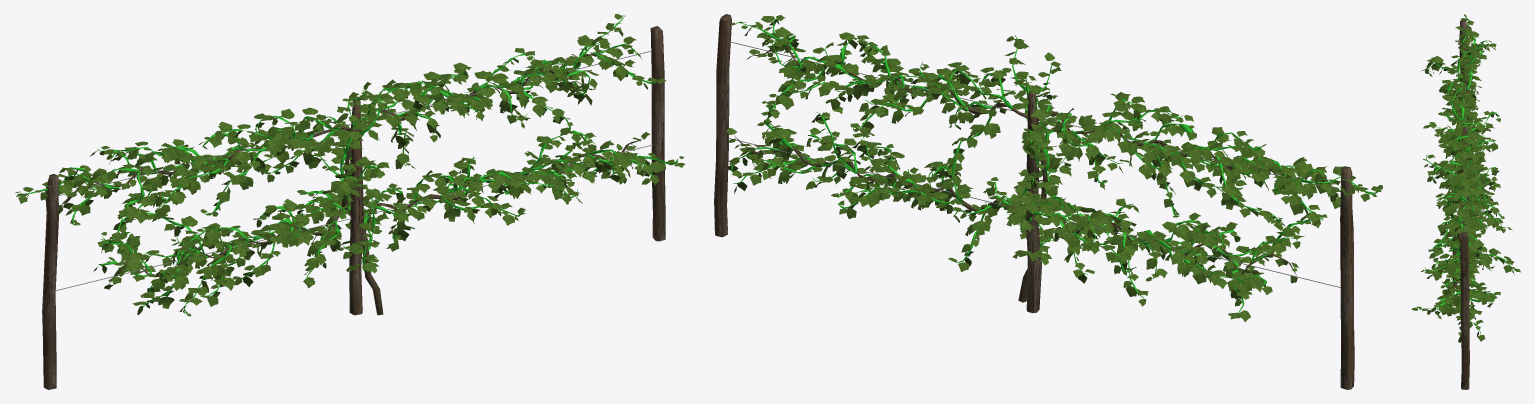
File: vine_t0_coarse.dae
3 renders of one model, left to right at view 1: azimuth 30°, elevation 25°; view 2: azimuth 150°, elevation 25°; view 3: azimuth 270°, elevation 25°, orthographic. The views are drawn at different scales.
Parts seen in each view (by area): view 1: VineGrape1.003, VineGrape1.002, VineGrape1.006, VineGrape1.004, VineGrape1.009; view 2: VineGrape1.003, VineGrape1.002, VineGrape1.006, VineGrape1.004, VineGrape1.009; view 3: VineGrape1.003, VineGrape1.002, VineGrape1.006, VineGrape1.004.
Part boxes in pixels (x1=…): VineGrape1.003: x1=15, y1=14, x2=685, y2=316; VineGrape1.002: x1=17, y1=17, x2=677, y2=314; VineGrape1.006: x1=42, y1=26, x2=665, y2=389; VineGrape1.004: x1=61, y1=53, x2=642, y2=315; VineGrape1.009: x1=55, y1=50, x2=652, y2=290; VineGrape1.003: x1=726, y1=15, x2=1382, y2=321; VineGrape1.002: x1=731, y1=18, x2=1380, y2=312; VineGrape1.006: x1=714, y1=14, x2=1354, y2=389; VineGrape1.004: x1=735, y1=44, x2=1337, y2=302; VineGrape1.009: x1=727, y1=41, x2=1340, y2=287; VineGrape1.003: x1=1411, y1=14, x2=1520, y2=342; VineGrape1.002: x1=1419, y1=17, x2=1516, y2=334; VineGrape1.006: x1=1459, y1=20, x2=1469, y2=389; VineGrape1.004: x1=1452, y1=41, x2=1471, y2=309.
Size of the model in its own units: 6.61 by 1.34 by 2.34.
